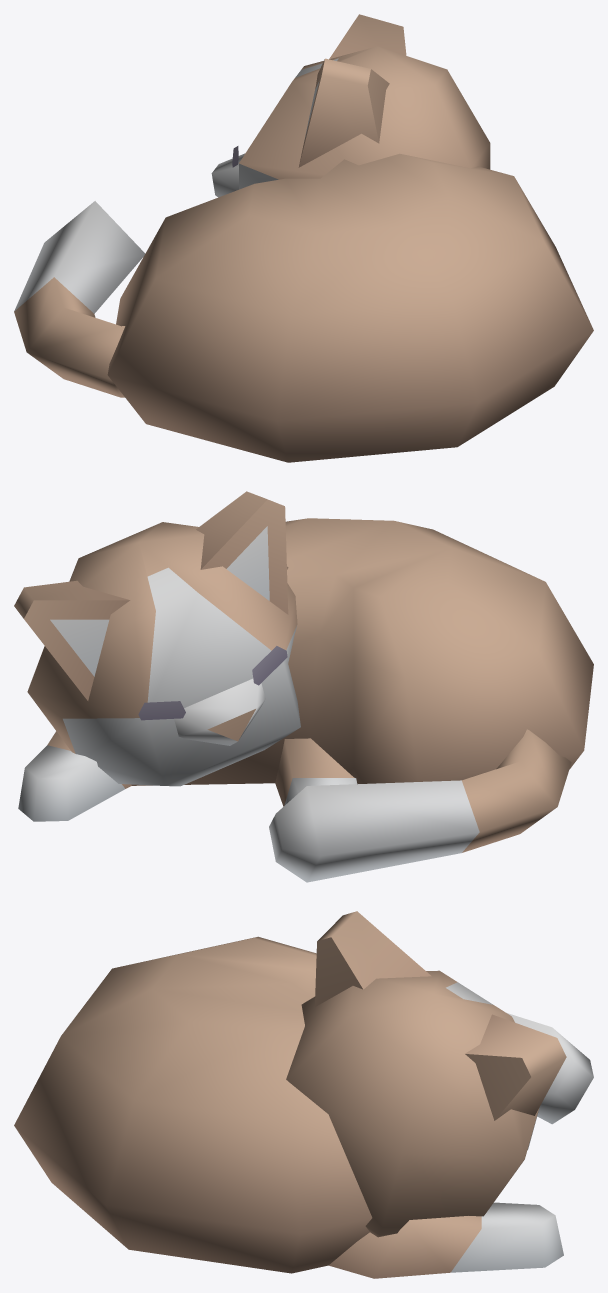
File: cat-sleeping.glb
3 renders of one model, top to bottom at view 1: azimuth 30°, elevation 25°; view 2: azimuth 150°, elevation 25°; view 3: azimuth 270°, elevation 25°, orthographic.
Parts seen in each view (by area): view 1: cat-sleeping; view 2: cat-sleeping; view 3: cat-sleeping.
Part boxes in pixels (x1,y1,x2,y2): cat-sleeping: [14, 14, 593, 462]; cat-sleeping: [14, 491, 593, 882]; cat-sleeping: [14, 911, 593, 1278].
Size of the model in its own units: 0.3615 by 0.1918 by 0.3598.
